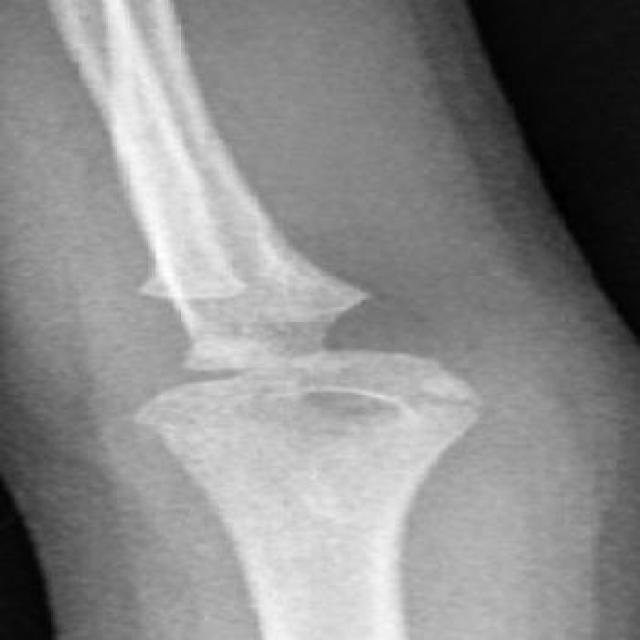Fracture: (127, 267, 250, 384)
